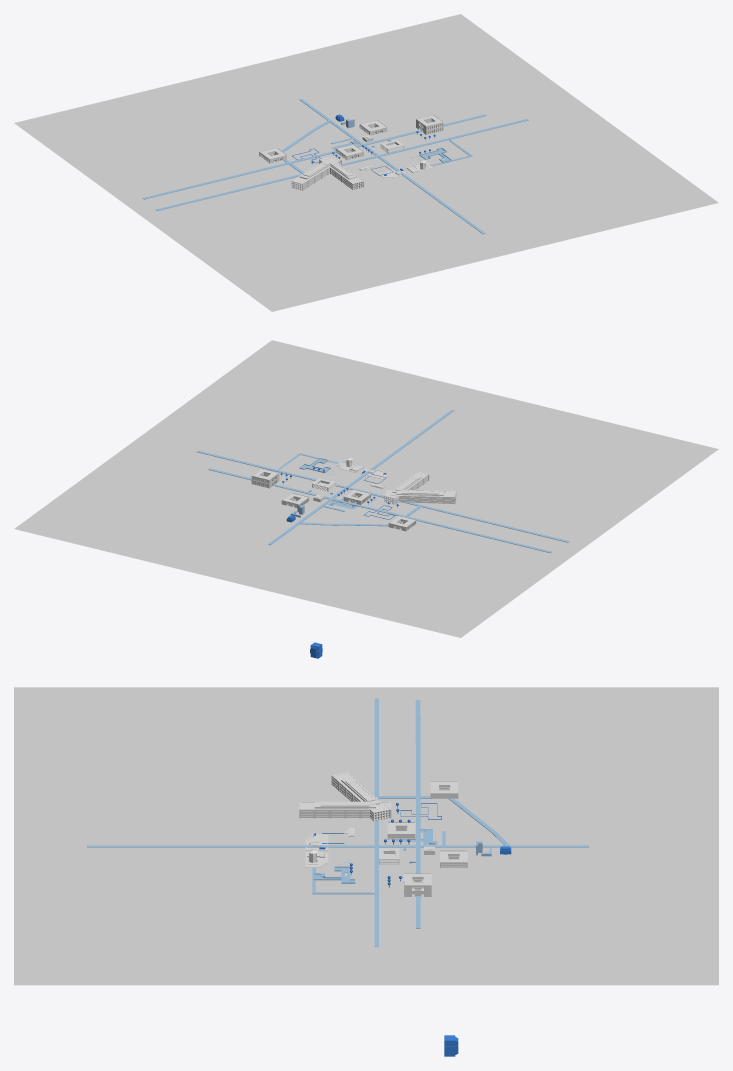
File: color_cu_v3.glb
3 views of the same model, one above another, from view 1: azimuth 30°, elevation 25°; view 2: azimuth 150°, elevation 25°; view 3: azimuth 270°, elevation 25° (orthographic). The views are drawn at different scales.
Parts seen in each view (by area): view 1: ground.001, street.001, EdificioCU.v; view 2: ground.001, street.001, EdificioCU.v; view 3: ground.001, street.001, EdificioCU.v, EdificioCU.f, EdificioCU.004.
Part boxes in pixels (left/top/right/bottom): ground.001: left=14, top=14, right=718, bottom=311; street.001: left=143, top=99, right=528, bottom=234; EdificioCU.v: left=291, top=156, right=363, bottom=190; ground.001: left=14, top=340, right=718, bottom=637; street.001: left=196, top=409, right=569, bottom=553; EdificioCU.v: left=384, top=471, right=456, bottom=504; ground.001: left=14, top=687, right=718, bottom=985; street.001: left=87, top=698, right=588, bottom=946; EdificioCU.v: left=299, top=772, right=391, bottom=821; EdificioCU.f: left=305, top=827, right=354, bottom=867; EdificioCU.004: left=404, top=873, right=431, bottom=896.
Bounding box in the file's own units: 4029 × 1365 × 4029.
